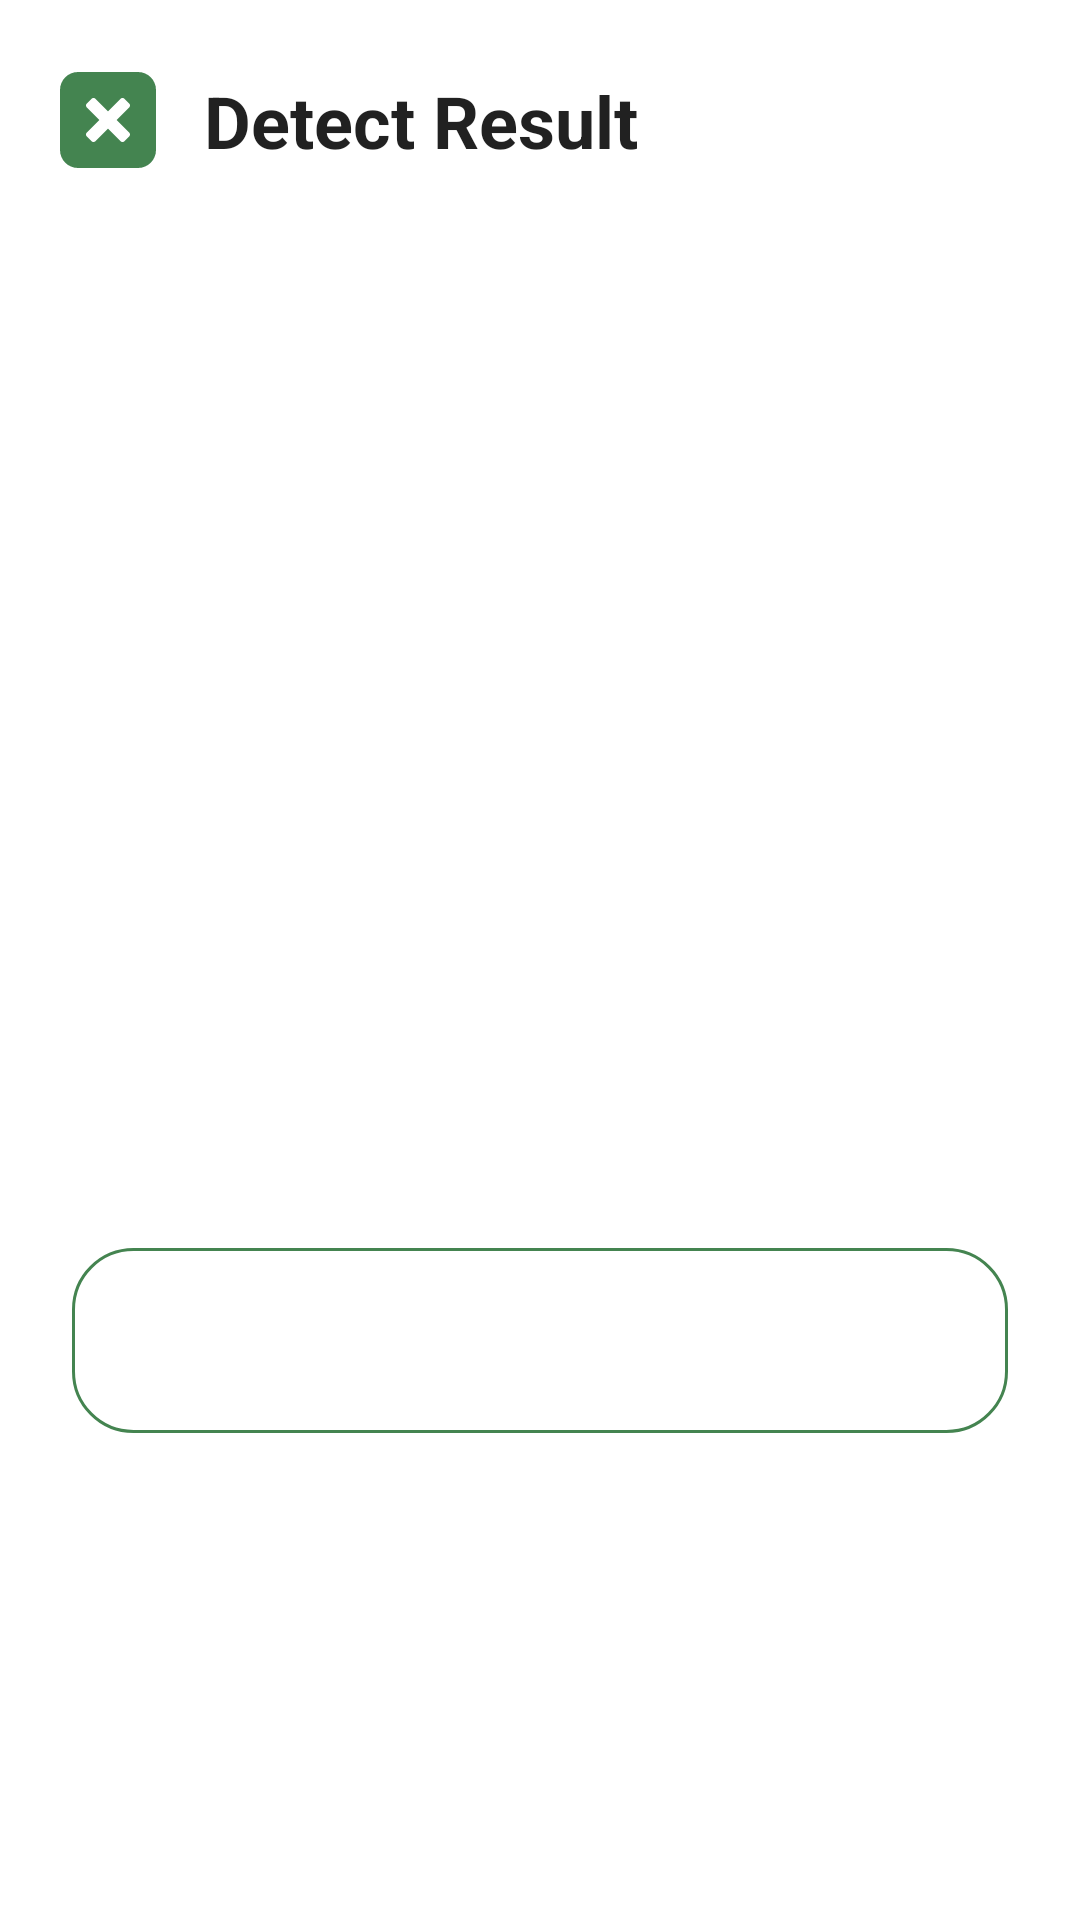

Where to tap for icons on this 1080w x 1920h app screen, as [x,y]:
close: [108,120]
